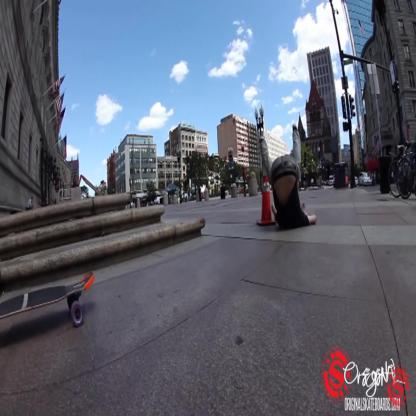Fall_Down: (258, 122, 318, 233)
